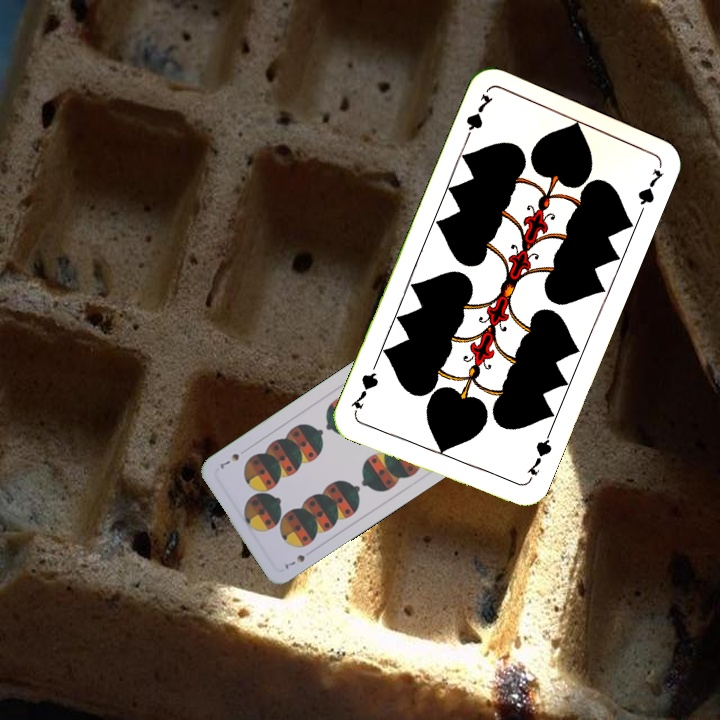G7: (460, 89, 496, 146), (522, 429, 555, 486)
S7: (279, 550, 308, 571)
